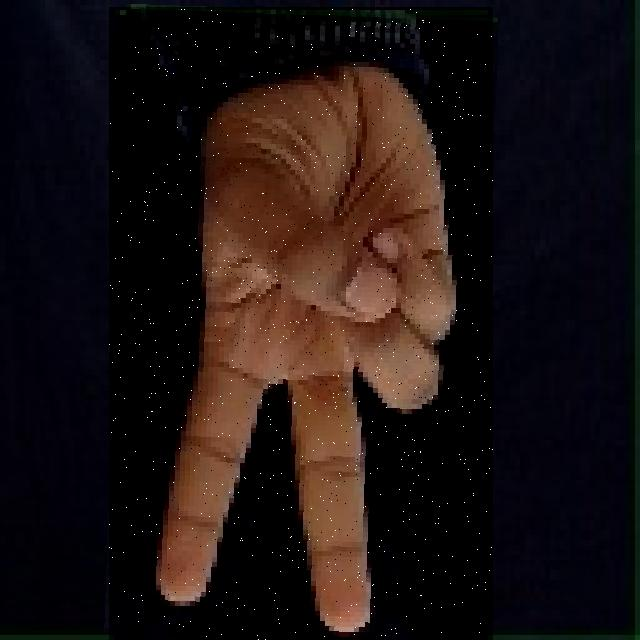No: (109, 7, 493, 640)
